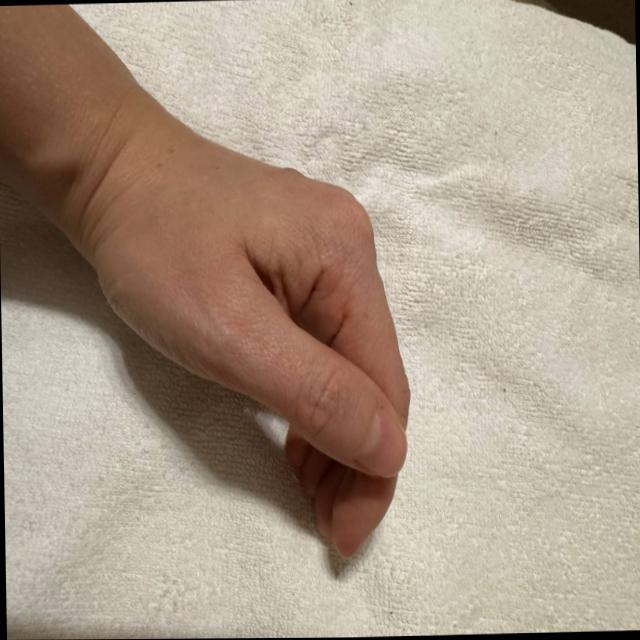f: (94, 70, 469, 572)
